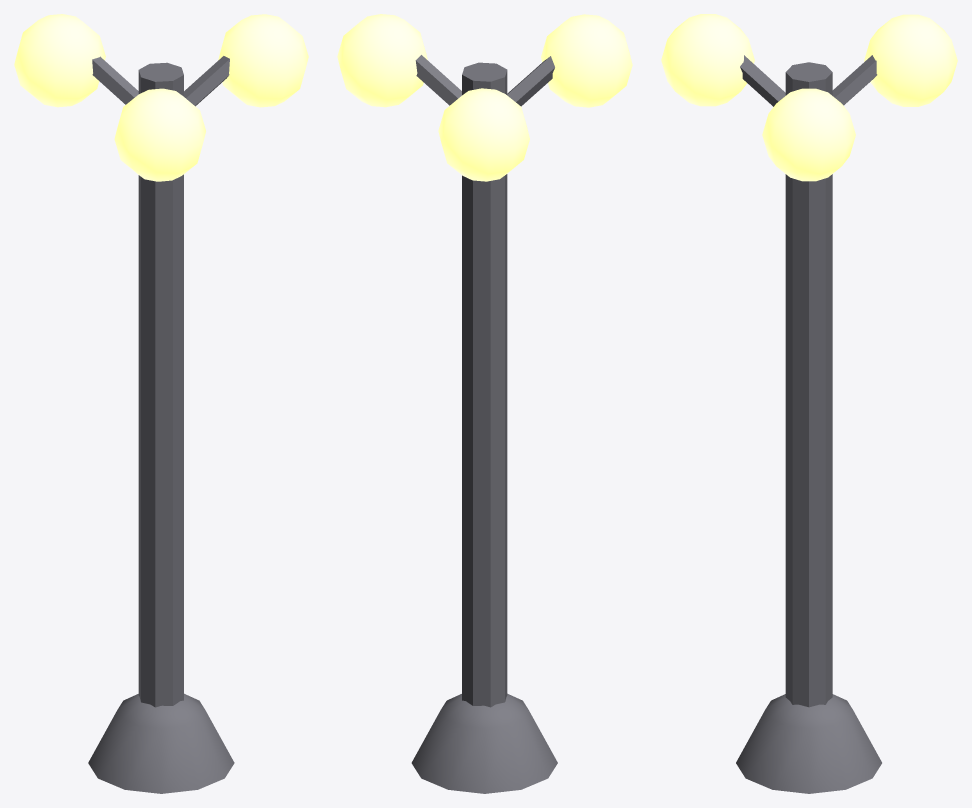
File: CarnivalLamp.fbx
The picture shows the model from 3 angles, left to right: view 1: azimuth 30°, elevation 25°; view 2: azimuth 150°, elevation 25°; view 3: azimuth 270°, elevation 25°; orthographic projection.
Parts seen in each view (by area): view 1: CarnivalLamp; view 2: CarnivalLamp; view 3: CarnivalLamp.
Boxes of the visible parts, x1,y1,x2,y2 form: CarnivalLamp: (14,14,308,793); CarnivalLamp: (337,14,632,793); CarnivalLamp: (661,14,957,793).
Bounding box in the file's own units: 1.81 × 5.42 × 2.02.
